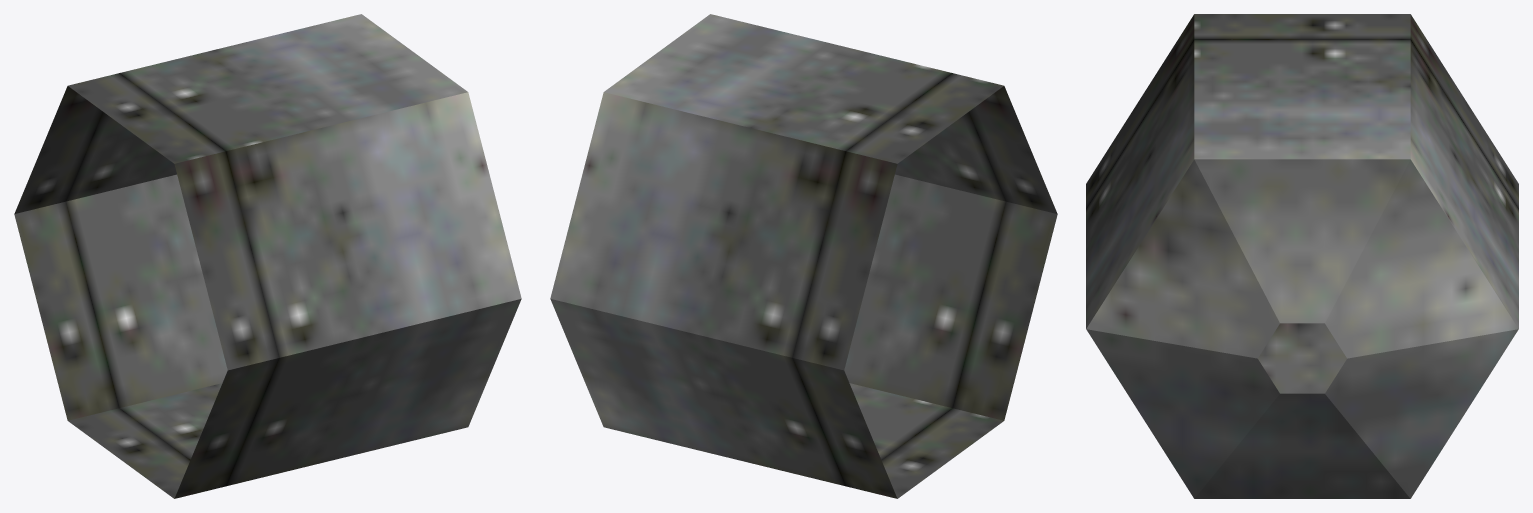
The model's file is pipe_endpieace.fbx.
3 renders of one model, left to right at view 1: azimuth 30°, elevation 25°; view 2: azimuth 150°, elevation 25°; view 3: azimuth 270°, elevation 25°, orthographic.
Visible parts, largest first — view 1: pipe_endpieace; view 2: pipe_endpieace; view 3: pipe_endpieace.
Part boxes in pixels (left/top/right/bottom): pipe_endpieace: left=14, top=14, right=521, bottom=498; pipe_endpieace: left=550, top=14, right=1057, bottom=498; pipe_endpieace: left=1086, top=14, right=1518, bottom=498.
Size of the model in its own units: 23.84 by 21.6 by 24.94.
Materials: 1 (1 with a texture image).
